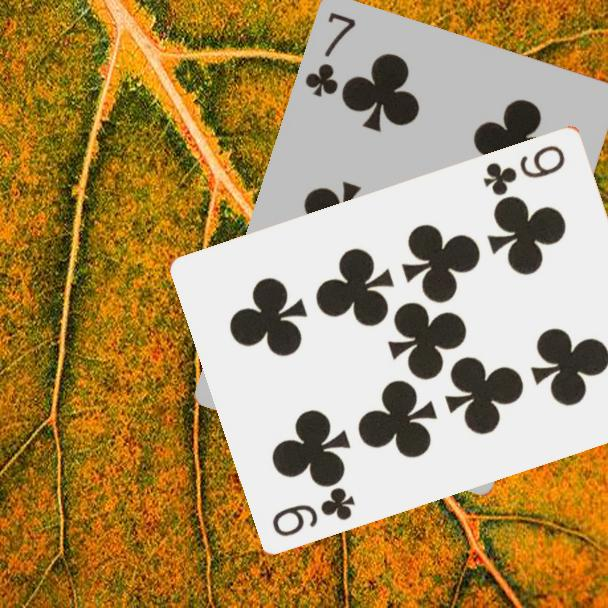c07: (302, 9, 359, 101)
c09: (269, 483, 359, 539), (480, 141, 568, 198)
